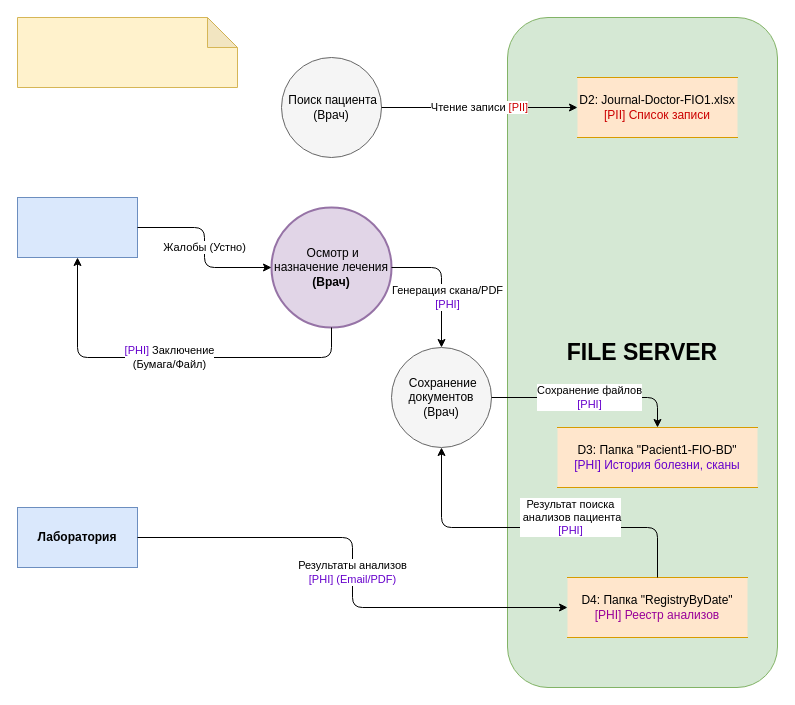
This 795x705 diagram has some shape labels left out. The box of each missing label's shape, as (x1, y1, x2, y2) in pixels:
Легенда: [PII] - Персональные данные [PHI] - Мед. тайна (Диагнозы): (16, 16, 238, 88)
Пациент: (16, 196, 138, 258)
